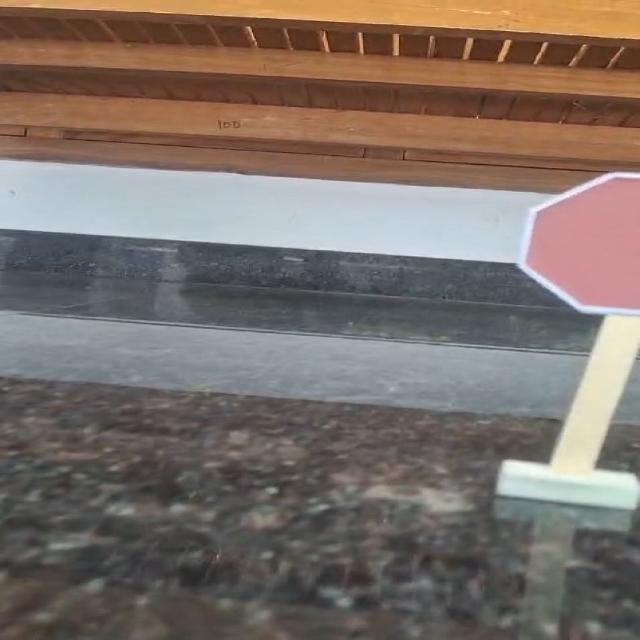Stop: (505, 158, 640, 324)
